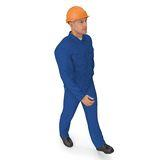helmet: (67, 6, 91, 26)
